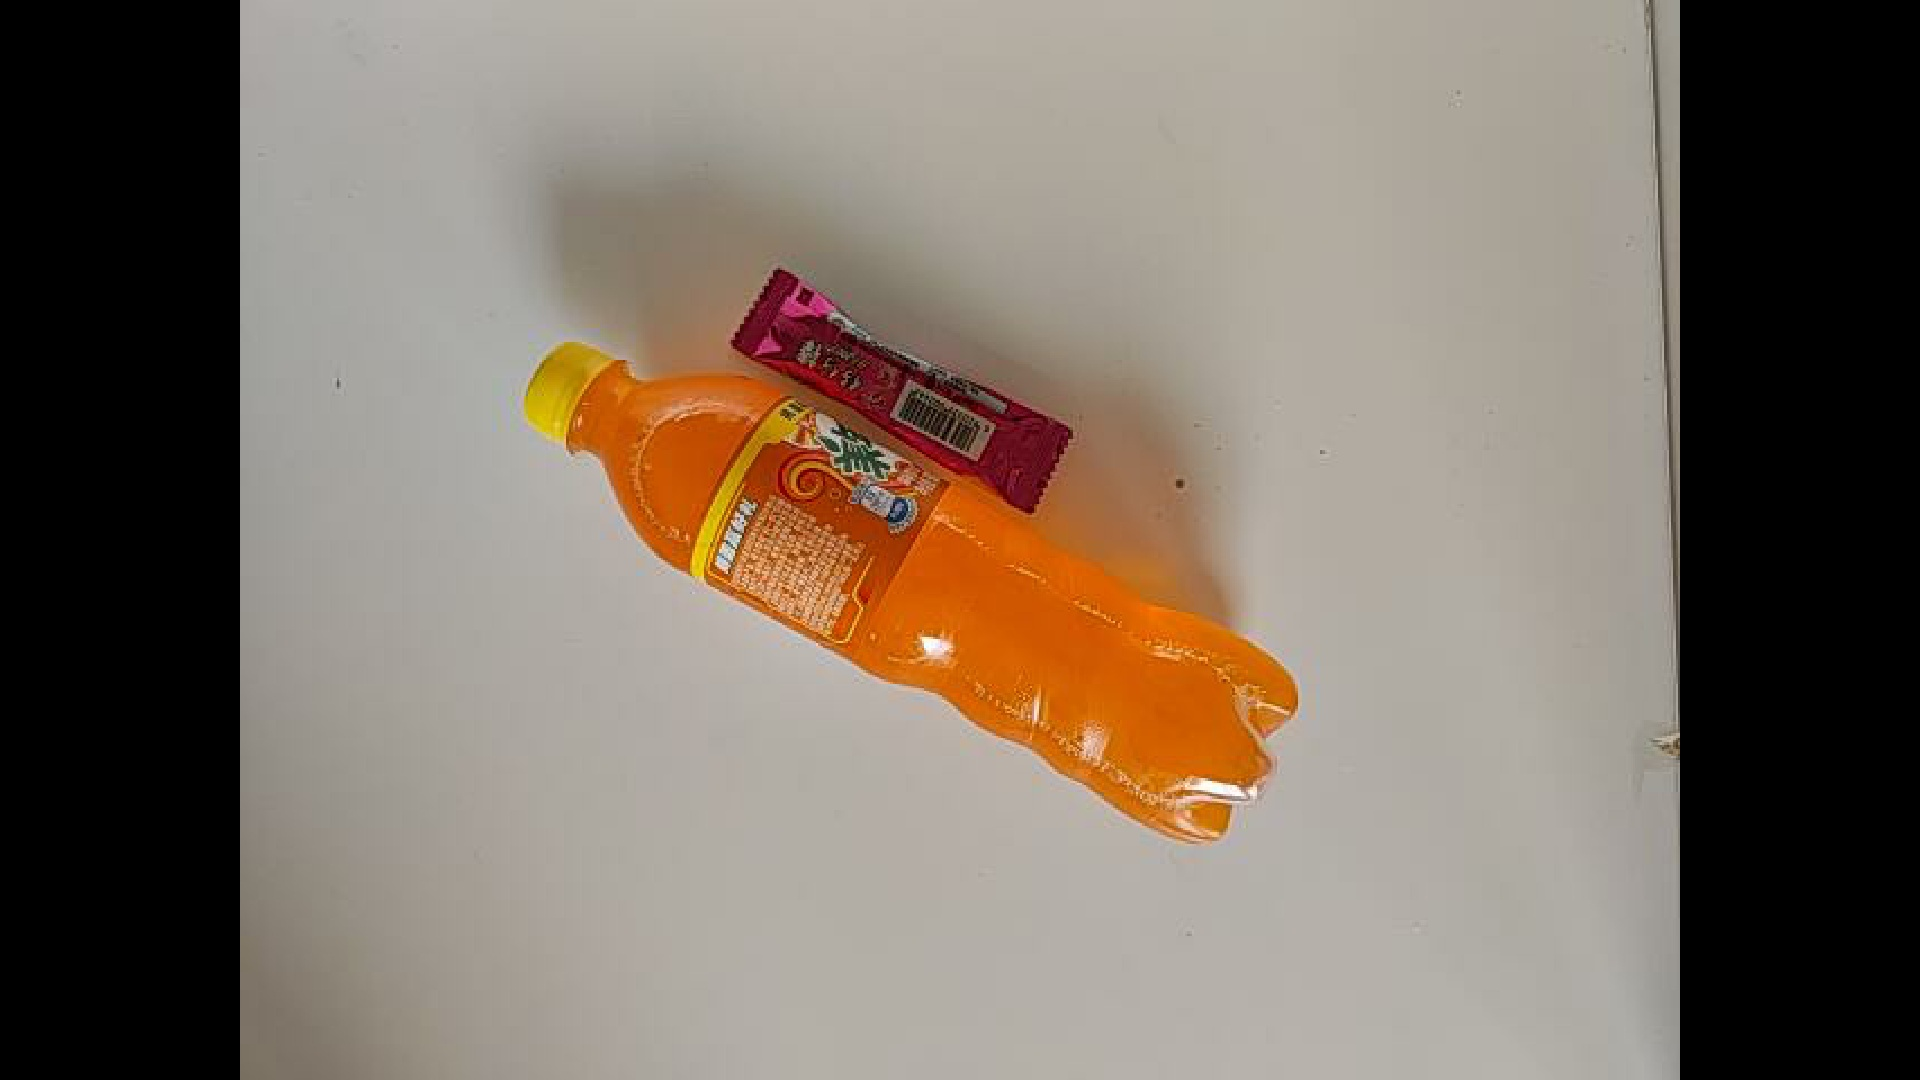fenta: (402, 277, 1329, 694)
sugar: (687, 260, 1083, 443)
